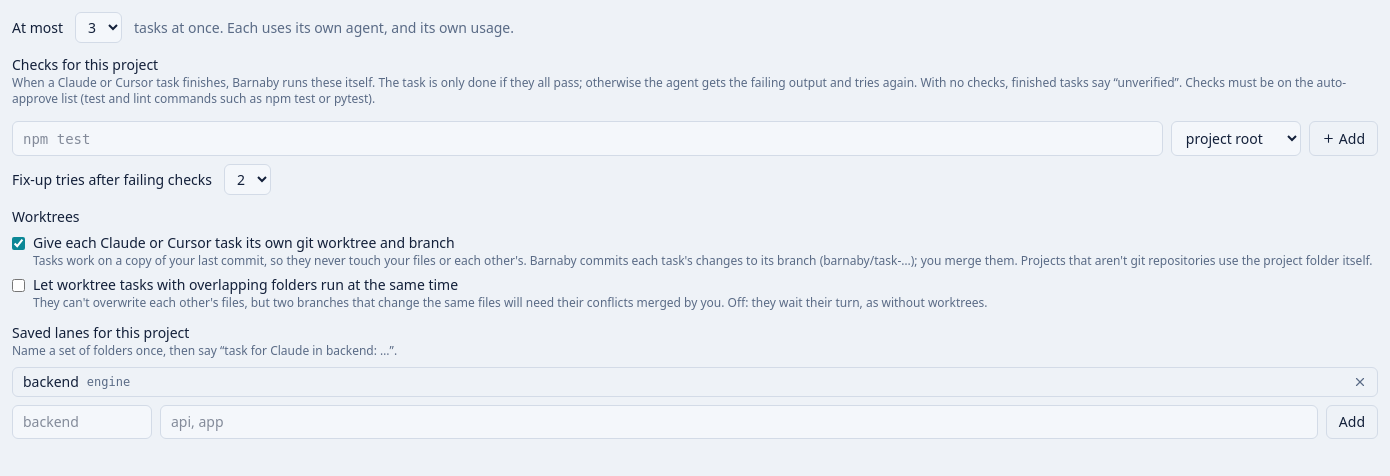
Test: TasksSettings › refuses the project root and a name that differs only in case
The width and height of the screenshot is (1390, 476).
Type "Backend" into the field named "Lane name". click: (82, 422)
box: [12,405,152,439]
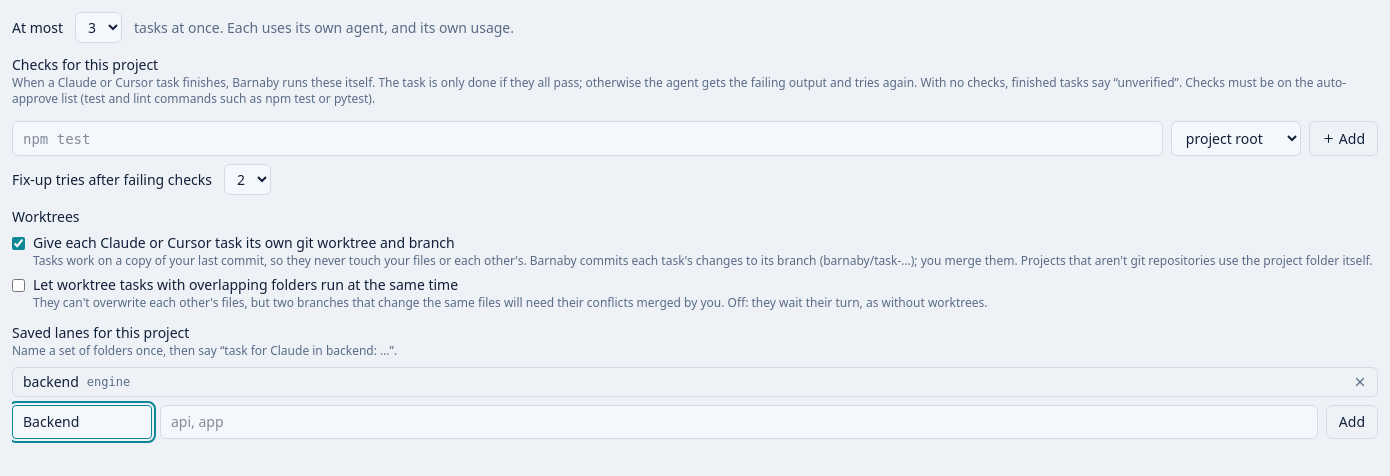
Type "api" into the field named "Lane folders". click: (739, 422)
box: [160,405,1318,439]
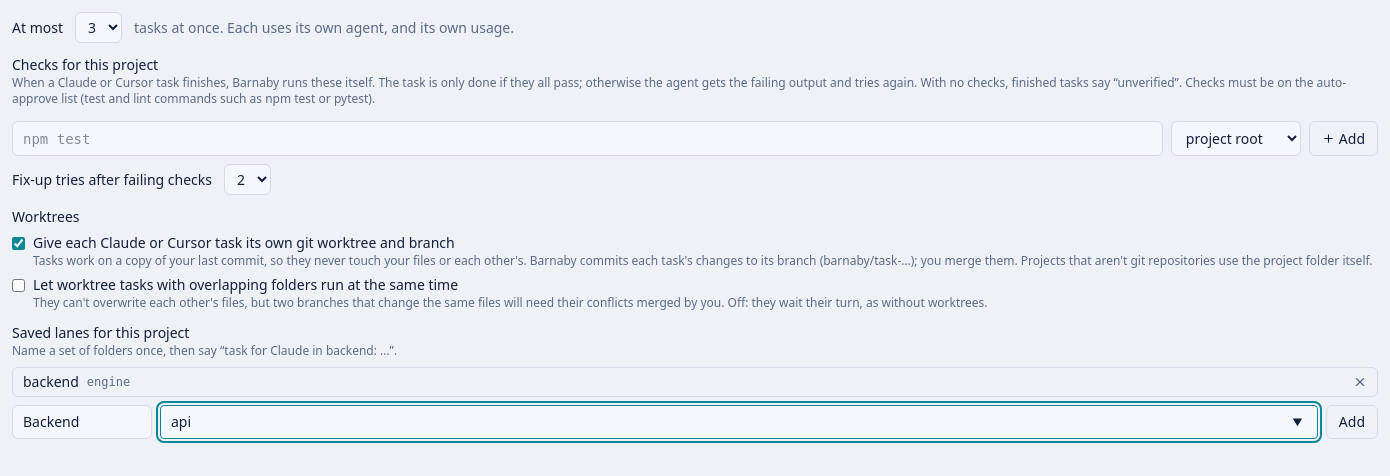
Click the 2nd button "Add". click: (1352, 422)
box: [1326,405,1378,439]
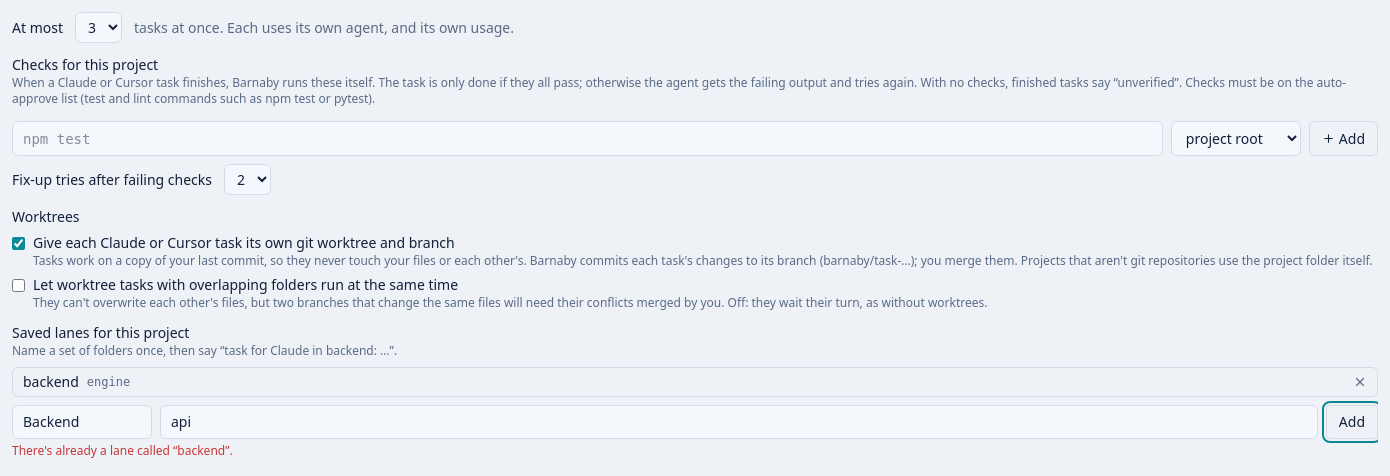
Expected: the text "There's already a lane called “backend”." is shown, [12,442,233,459]
Replace the text in the field named "Lane name" with "all". click: (82, 422)
box: [12,405,152,439]
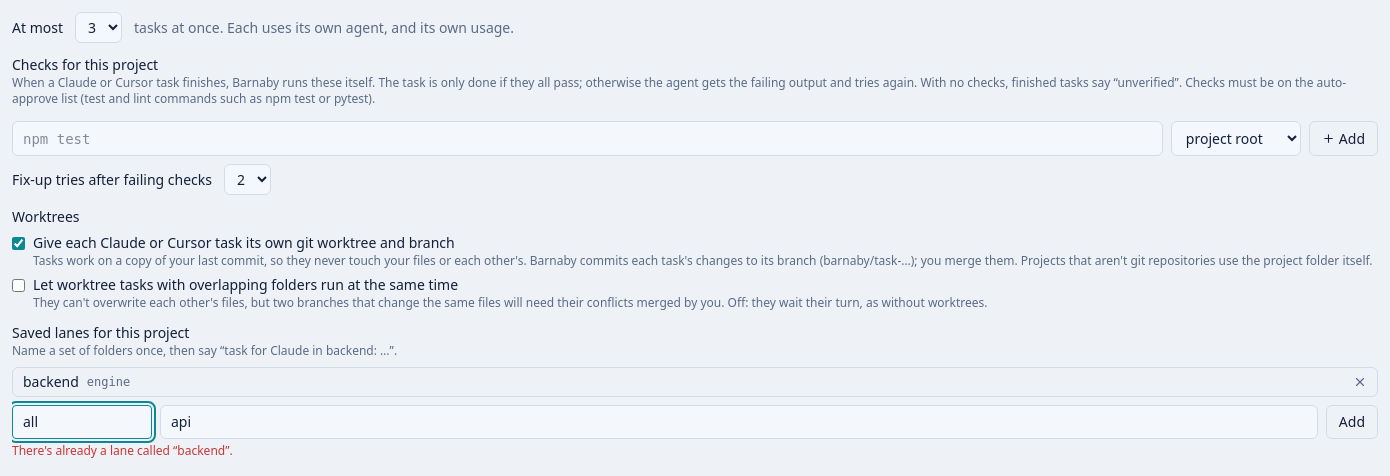
Replace the text in the field named "Lane folders" with ".". click: (739, 422)
box: [160,405,1318,439]
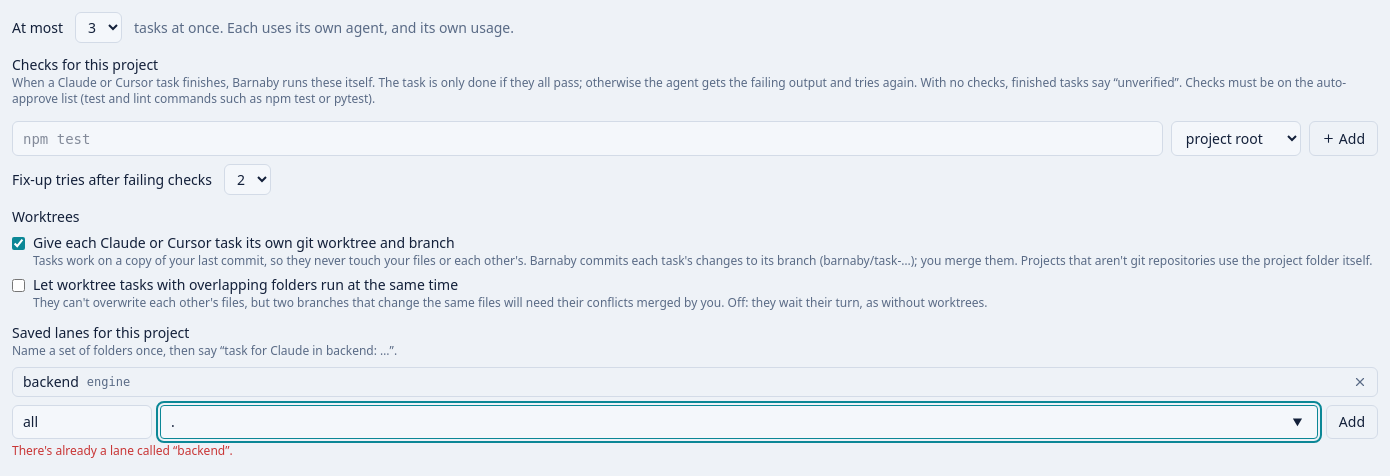
Click the 2nd button "Add". click: (1352, 422)
box: [1326,405,1378,439]
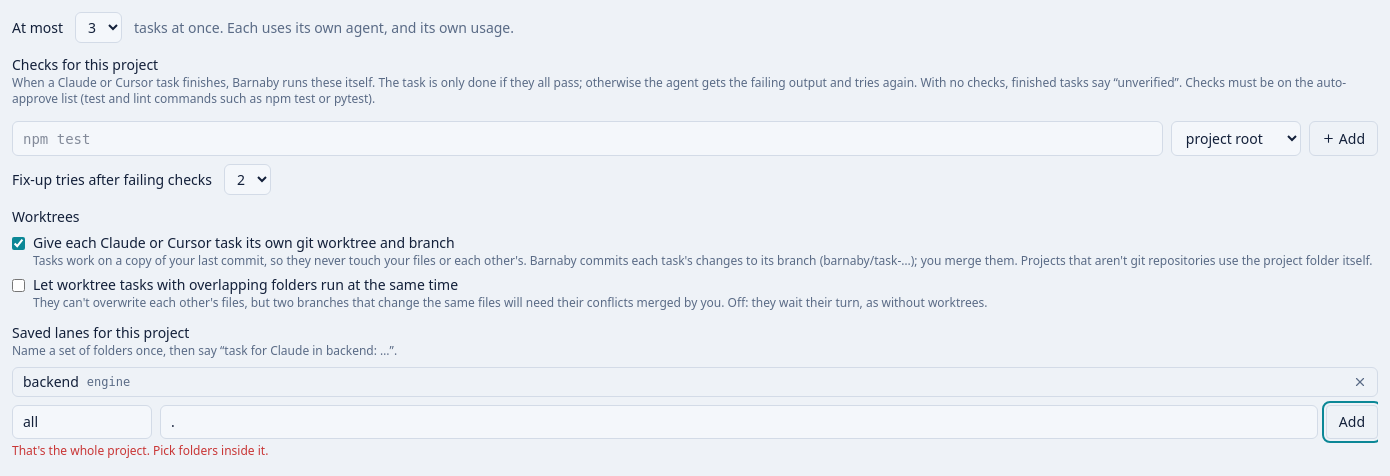
Expected: the text "That's the whole project. Pick folders inside it." is shown, [12,442,268,459]
